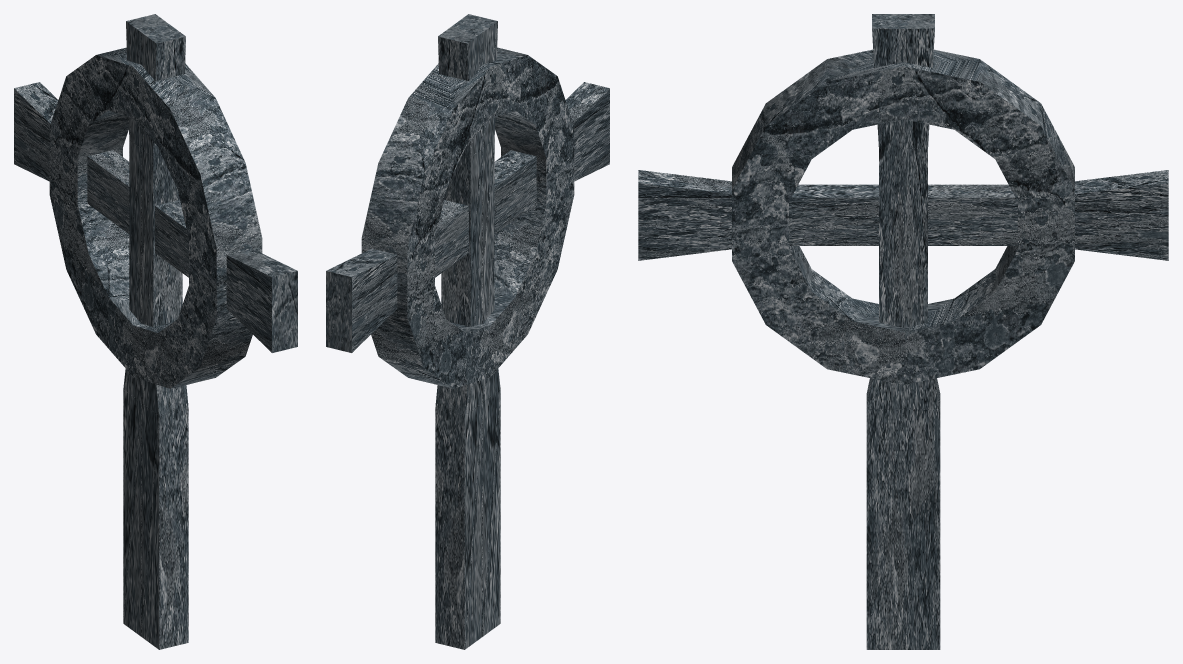
The model's file is GraveCross.fbx.
The picture shows the model from 3 angles, left to right: view 1: azimuth 30°, elevation 25°; view 2: azimuth 150°, elevation 25°; view 3: azimuth 270°, elevation 25°; orthographic projection. The views are drawn at different scales.
Parts seen in each view (by area): view 1: GraveCross; view 2: GraveCross; view 3: GraveCross.
Part boxes in pixels (<box>): GraveCross: <box>14,14,297,649</box>; GraveCross: <box>326,14,609,649</box>; GraveCross: <box>638,14,1168,649</box>.
Bounding box in the file's own units: 1.52 × 19.3 × 14.94.
1 material, 1 textured.
